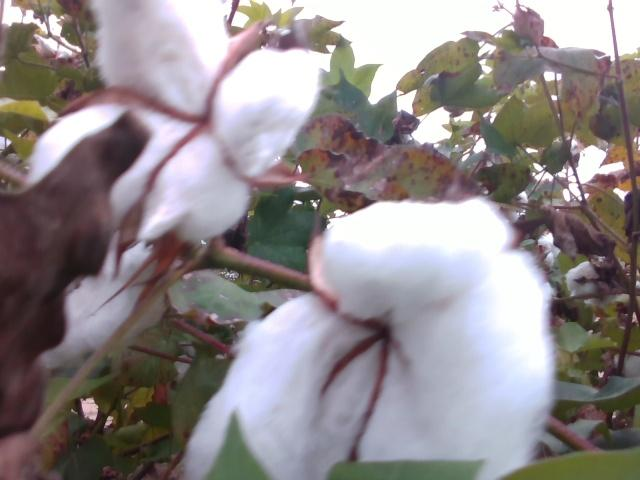cotton_ready: (182, 198, 556, 480), (34, 0, 322, 242), (37, 238, 208, 369), (566, 261, 614, 309), (521, 232, 561, 269)
